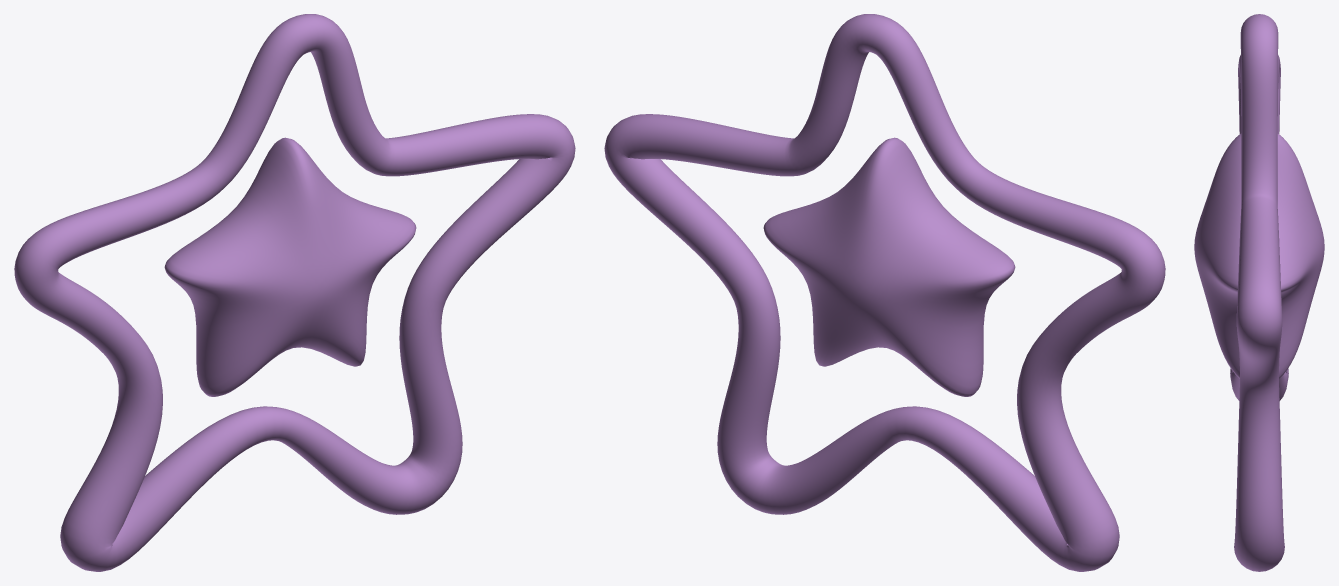
Rendered from star.glb.
3 views of the same model, side by side, from view 1: azimuth 30°, elevation 25°; view 2: azimuth 150°, elevation 25°; view 3: azimuth 270°, elevation 25° (orthographic). The views are drawn at different scales.
Parts seen in each view (by area): view 1: OuterStar, InnerStar; view 2: OuterStar, InnerStar; view 3: OuterStar, InnerStar.
Boxes of the visible parts, left/top/right/bottom form: OuterStar: left=14, top=14, right=575, bottom=571; InnerStar: left=164, top=137, right=416, bottom=396; OuterStar: left=604, top=14, right=1165, bottom=571; InnerStar: left=763, top=137, right=1015, bottom=396; OuterStar: left=1230, top=14, right=1288, bottom=571; InnerStar: left=1194, top=133, right=1324, bottom=378.
Size of the model in its own units: 3.96 by 3.55 by 0.84.
